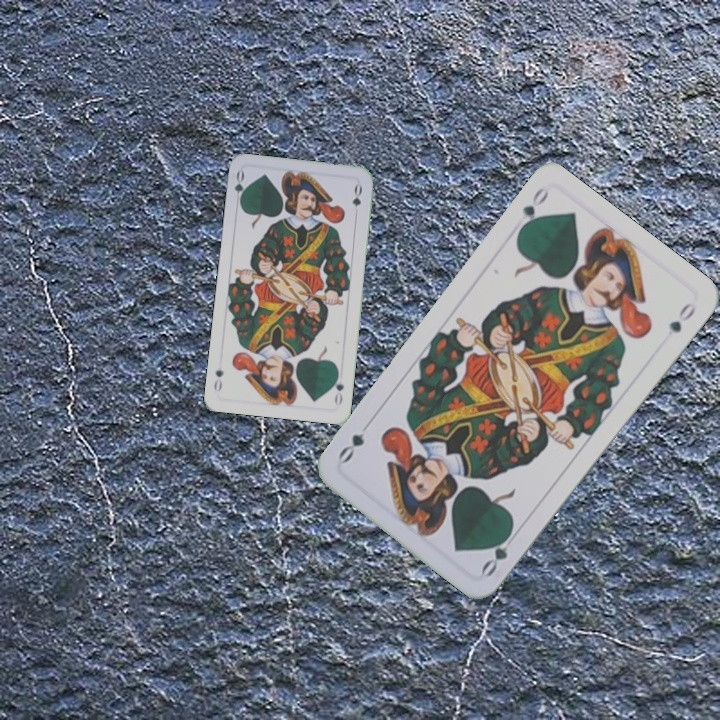GO: (477, 524, 521, 579), (513, 183, 552, 238), (230, 167, 249, 208), (329, 368, 347, 408)
